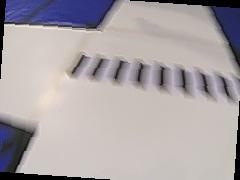CrossWalk: (63, 49, 240, 103)
